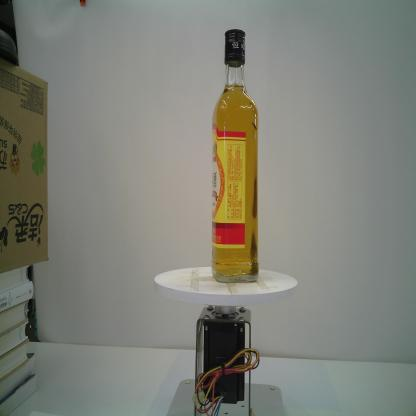Seasoner: (209, 26, 261, 288)
